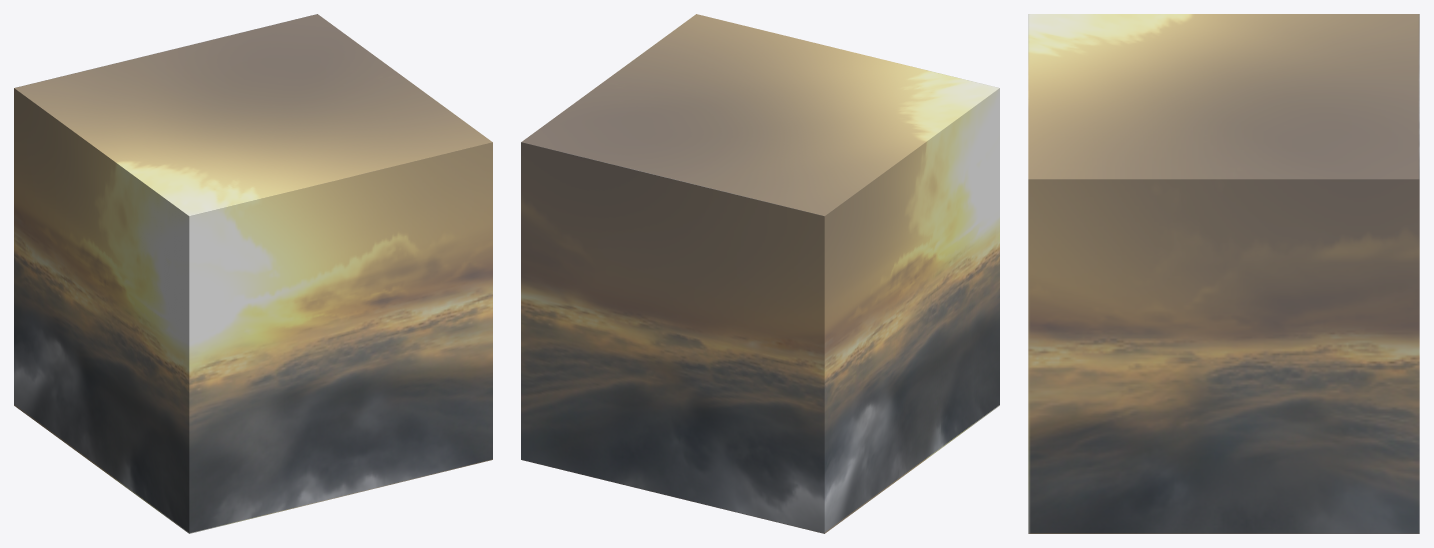
Rendered from stormy2.obj.
3 views of the same model, side by side, from view 1: azimuth 30°, elevation 25°; view 2: azimuth 150°, elevation 25°; view 3: azimuth 270°, elevation 25° (orthographic). The views are drawn at different scales.
Parts seen in each view (by area): view 1: stormy; view 2: stormy; view 3: stormy.
Part boxes in pixels (x1=…): stormy: x1=14, y1=14, x2=492, y2=533; stormy: x1=521, y1=14, x2=999, y2=533; stormy: x1=1028, y1=14, x2=1419, y2=533.
Bounding box in the file's own units: 1969 × 1969 × 1969.
Materials: 1 (1 with a texture image).
